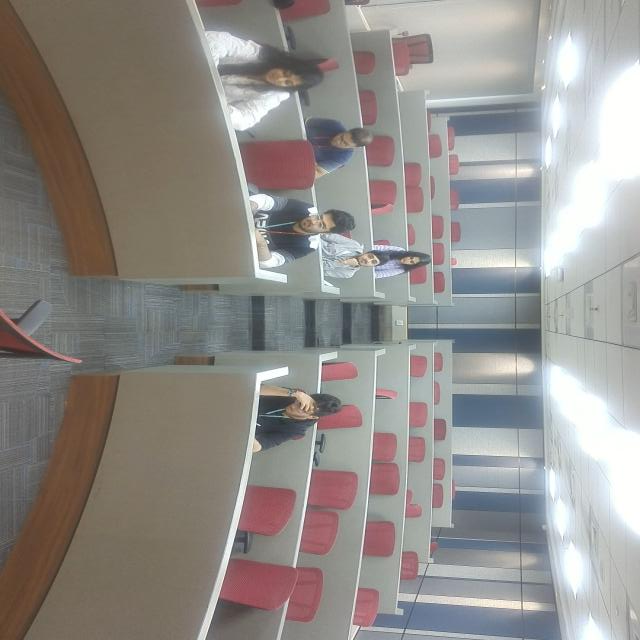non-cheating: (37, 322, 128, 436), (185, 292, 267, 408), (374, 298, 460, 408)
